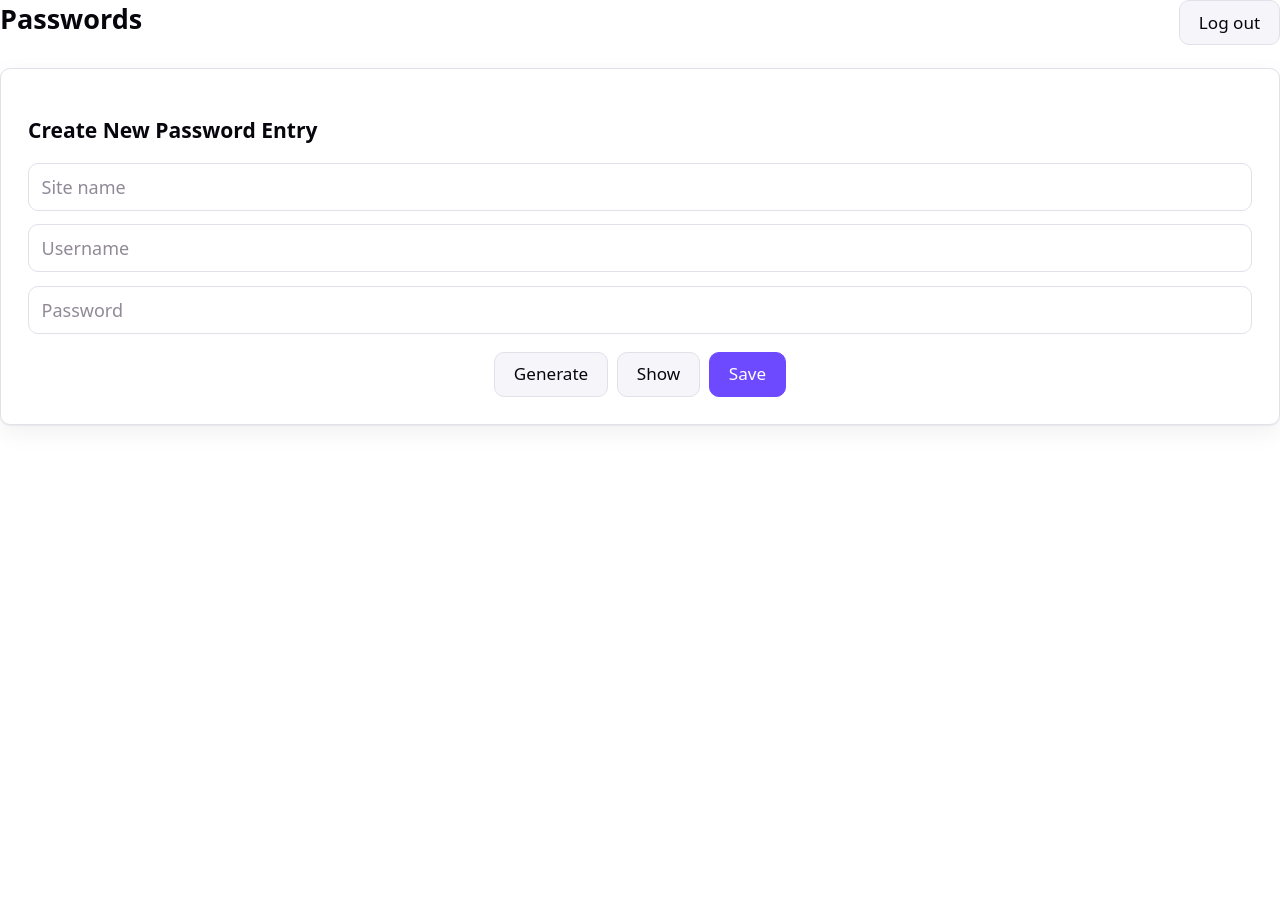
Test: PasswordsPage › shows an error message when saving a new password entry fails
The image size is (1280, 900).
Type "Example Site" into the field with placeholder "Site name". click: x=640, y=187
box: x1=28 y1=163 x2=1252 y2=211
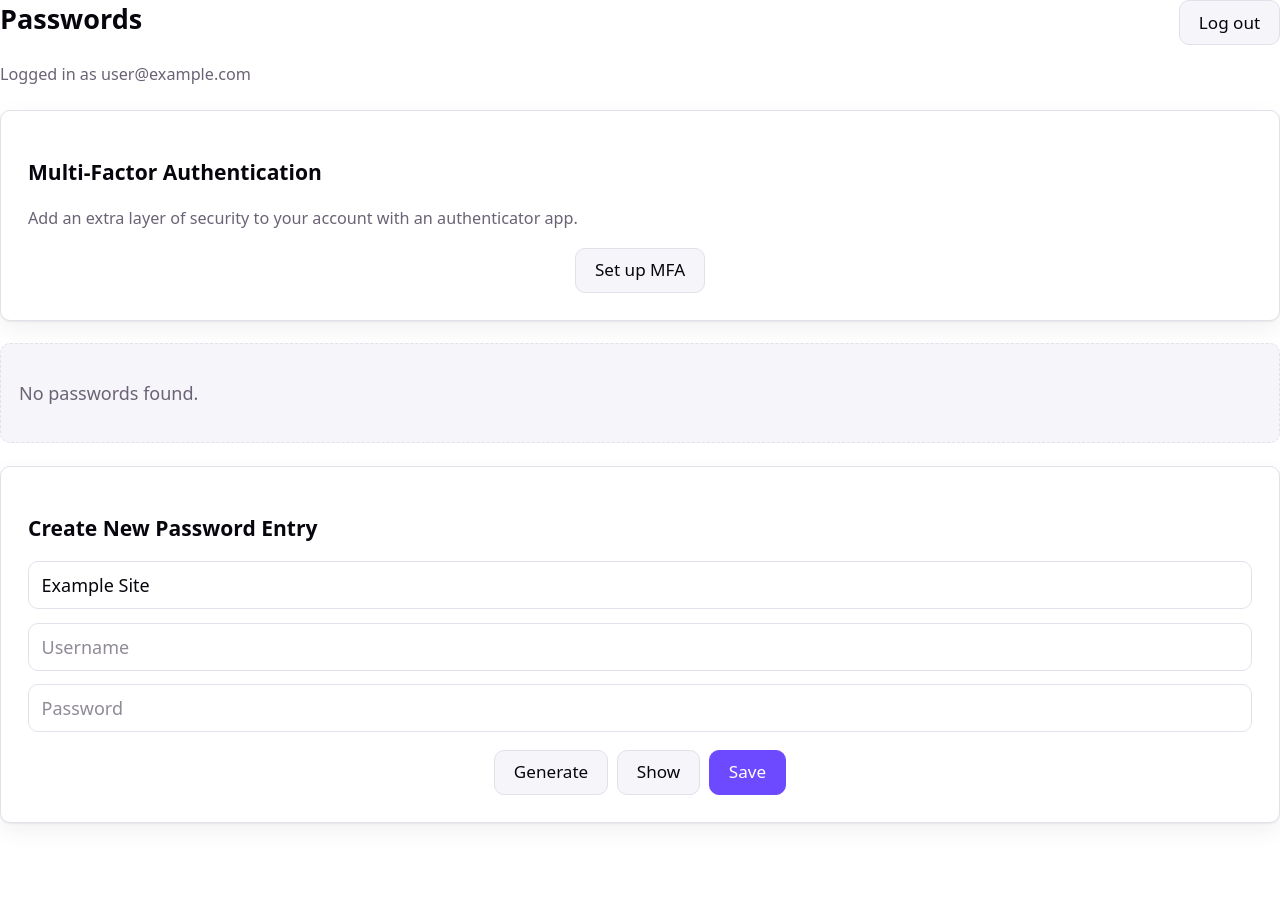
Type "someone" into the field with placeholder "Username". click: x=640, y=647
box: x1=28 y1=623 x2=1252 y2=670
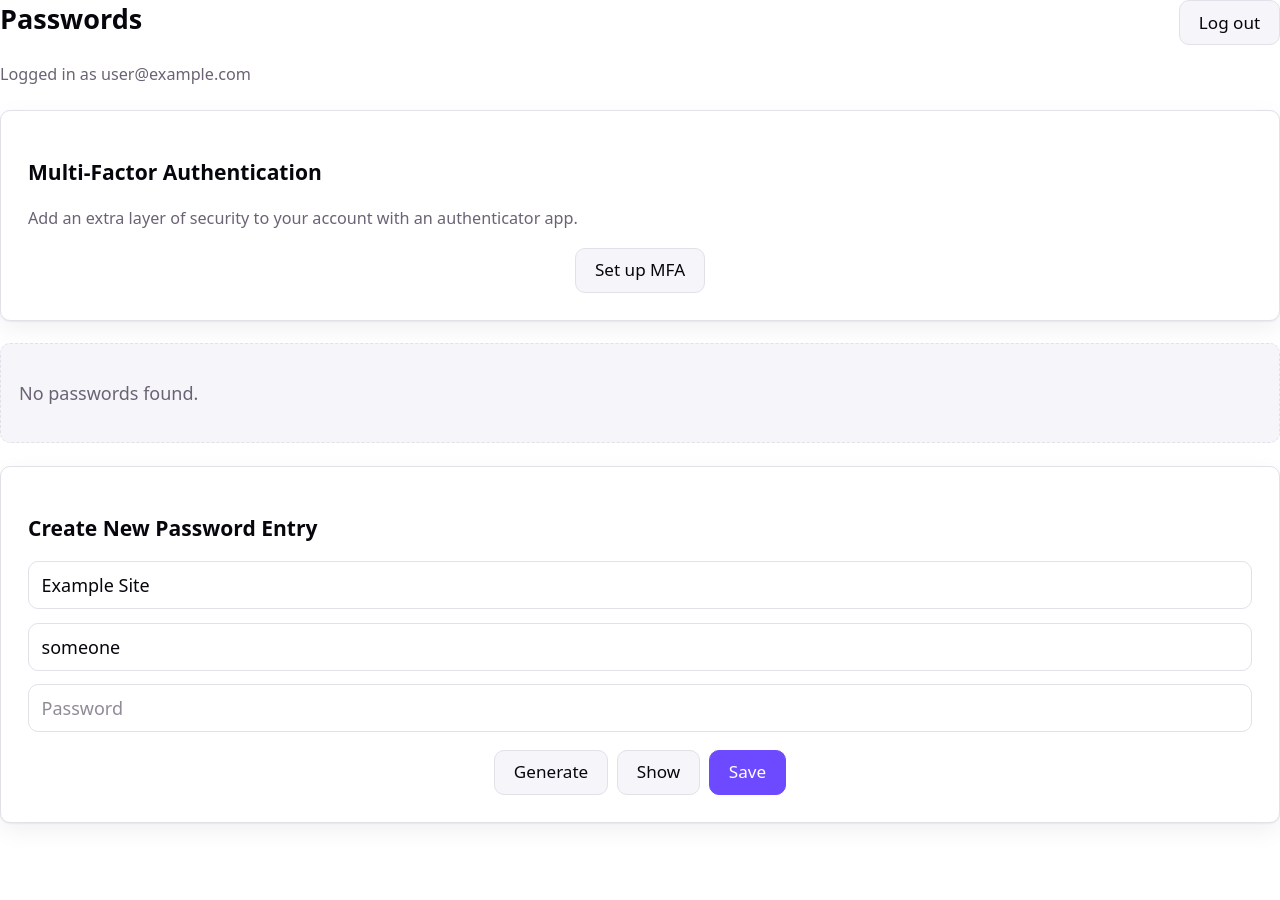
Type "super-secret" into the password field with placeholder "Password". click: x=640, y=708
box: x1=28 y1=684 x2=1252 y2=732
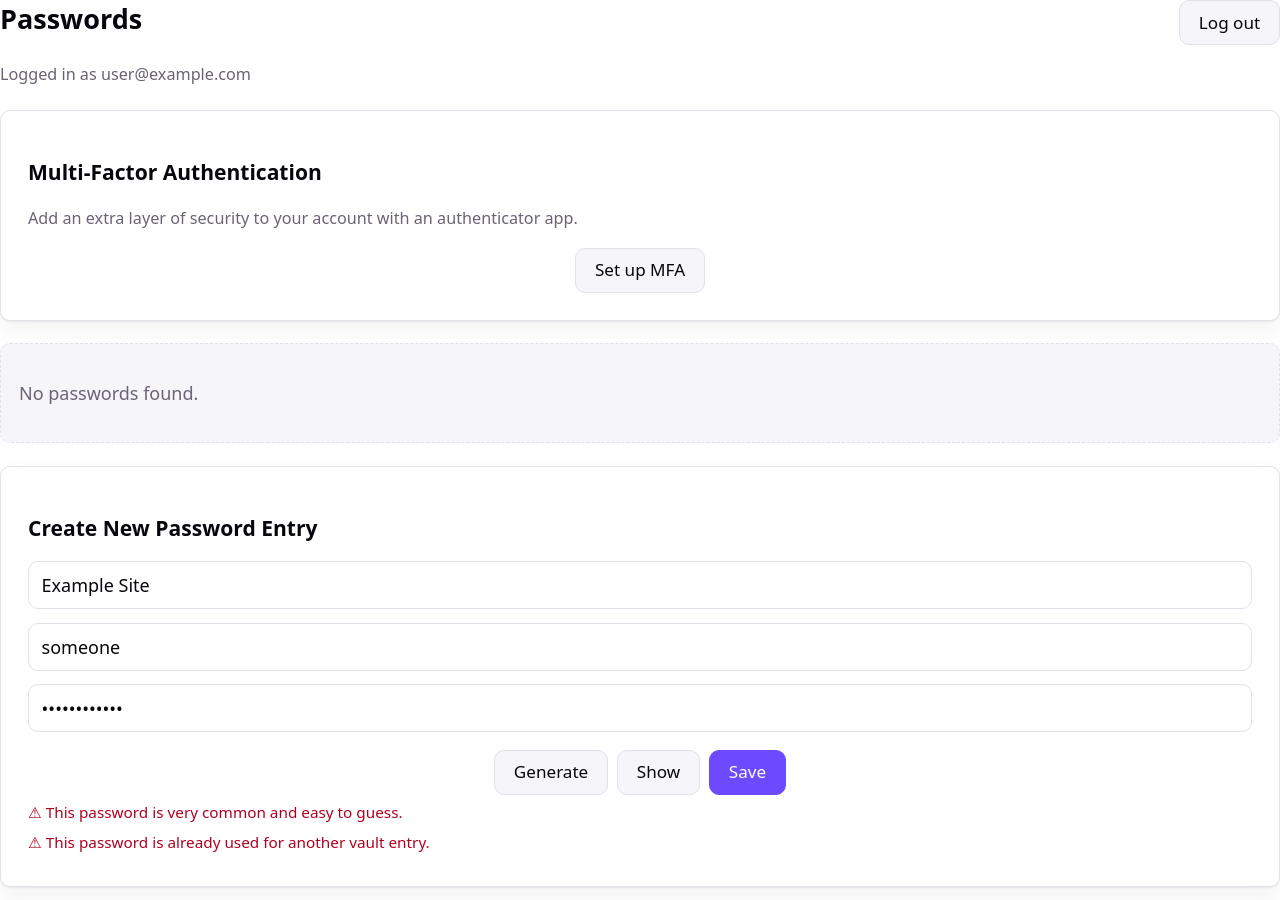
Click the button "Save". click: x=747, y=772
box: x1=709 y1=750 x2=786 y2=795
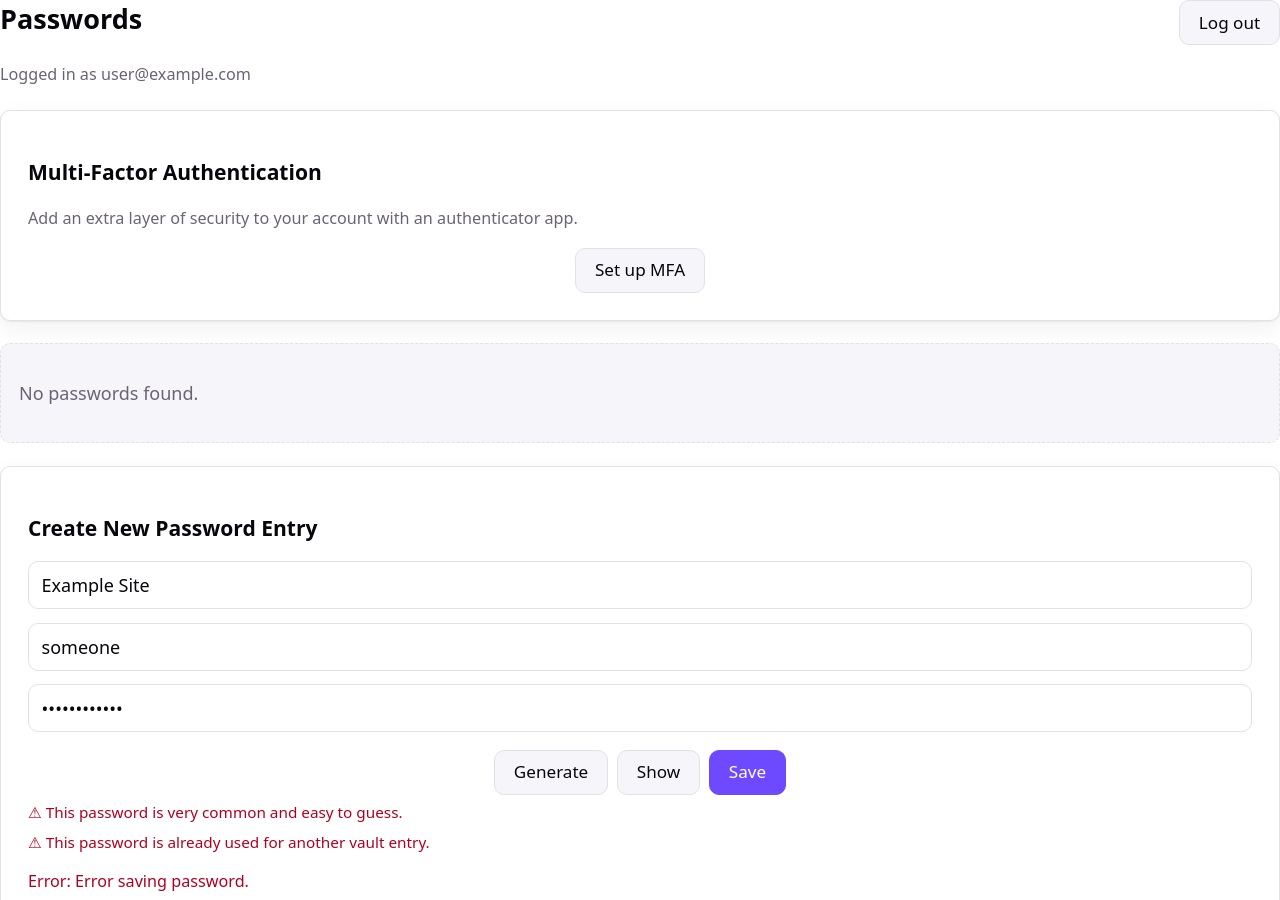
Check: the text "Error: Error saving password." is shown, box x1=28 y1=870 x2=249 y2=892
